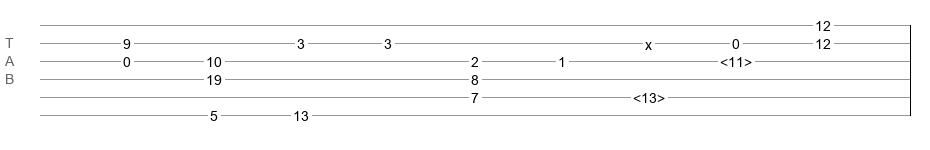0: (123, 54, 131, 64), (732, 36, 740, 46)
1: (558, 54, 566, 64)
10: (206, 54, 222, 64)
12: (815, 36, 831, 46), (815, 18, 831, 28)
13: (293, 108, 309, 118)
19: (206, 72, 222, 82)
2: (471, 54, 479, 64)
3: (297, 36, 305, 46), (384, 36, 392, 46)
5: (210, 108, 218, 118)
7: (471, 90, 479, 100)
8: (471, 72, 479, 82)
9: (123, 36, 131, 46)
harmonic: (633, 90, 665, 100), (720, 54, 752, 64)
x: (645, 37, 652, 45)
